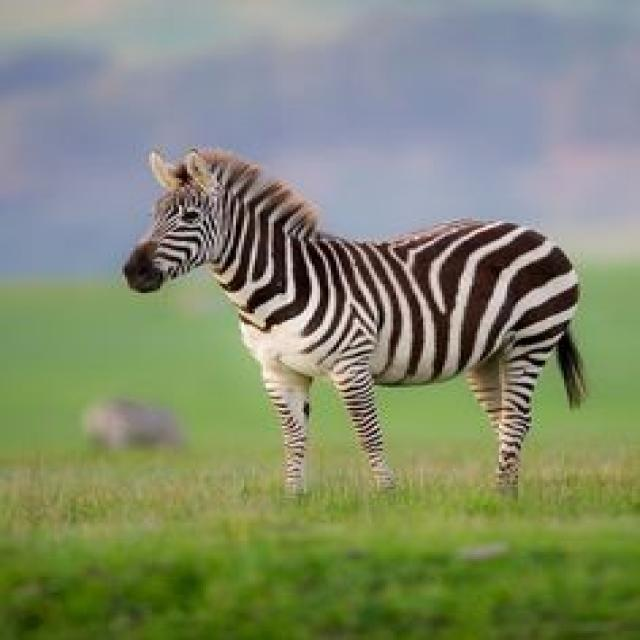Herbivorous: (119, 149, 591, 498)
